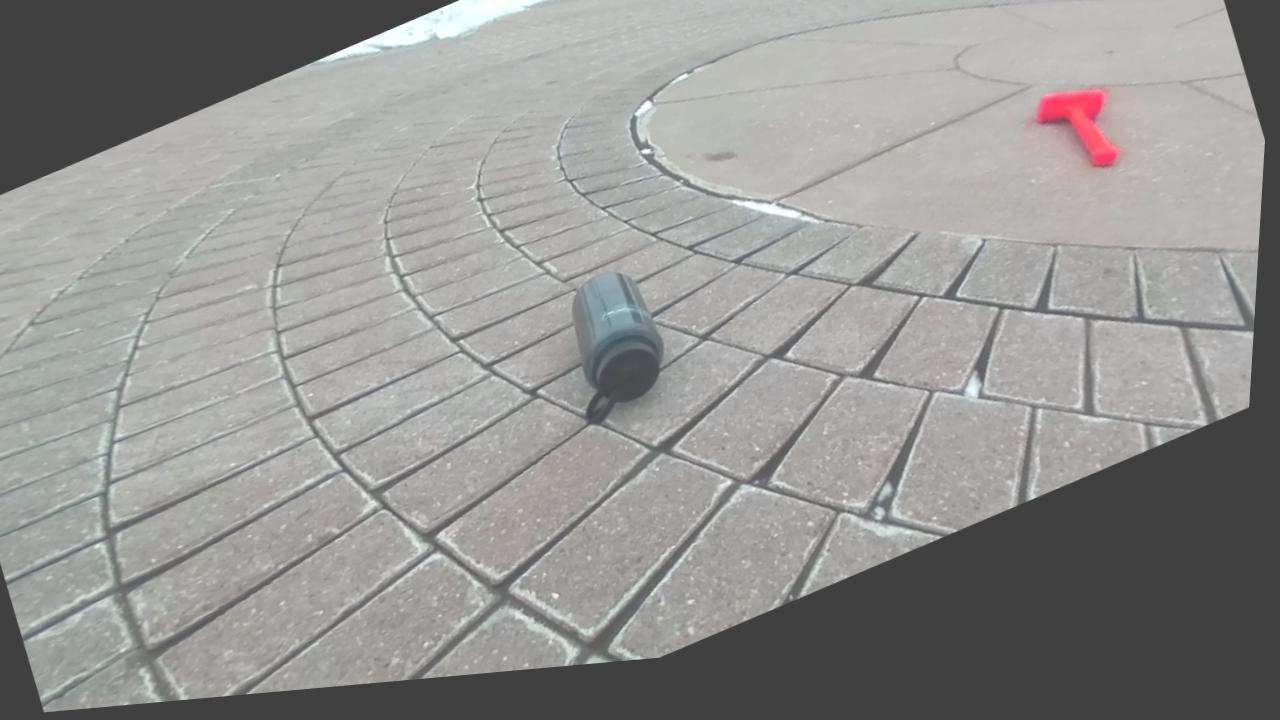bottle: (572, 271, 663, 423)
mallet: (1036, 90, 1117, 164)
